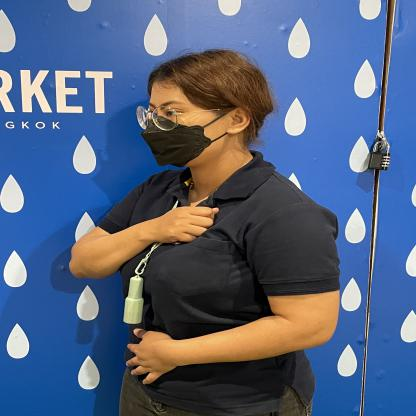Sadness: (69, 195, 235, 283)
